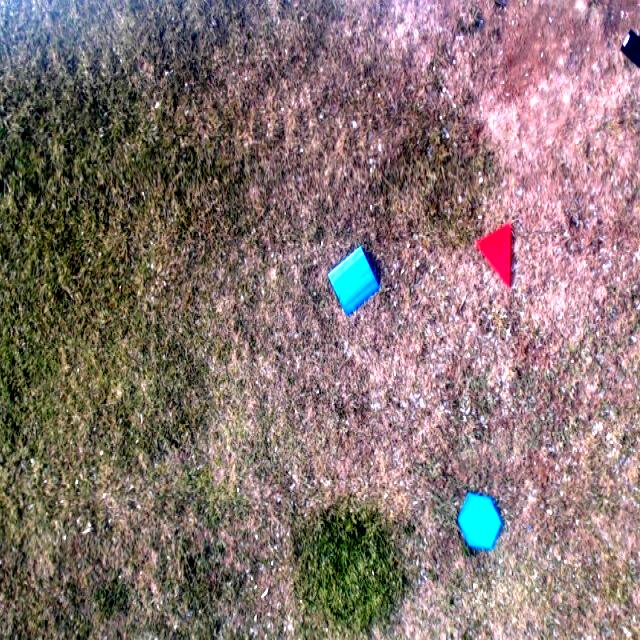blue_hexagon: (458, 492, 502, 552)
blue_square: (328, 246, 380, 315)
red_triangle: (476, 222, 512, 287)
